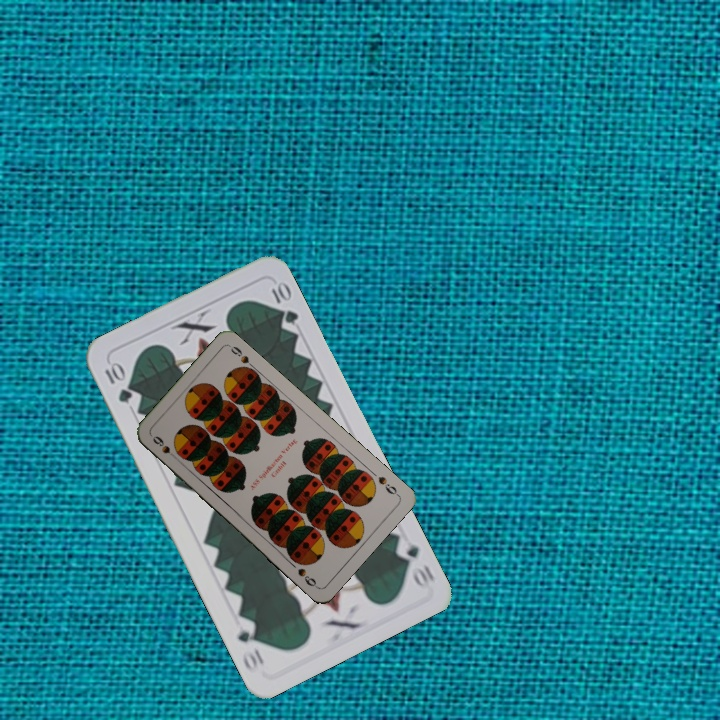G10: (392, 533, 437, 590), (100, 357, 135, 406)
S9: (148, 431, 181, 463), (374, 472, 402, 498)
